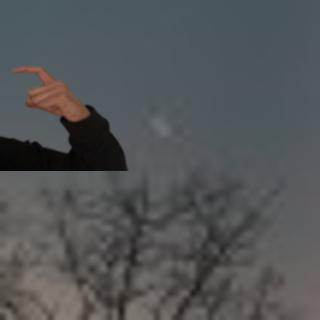WHY: (7, 58, 89, 122)
